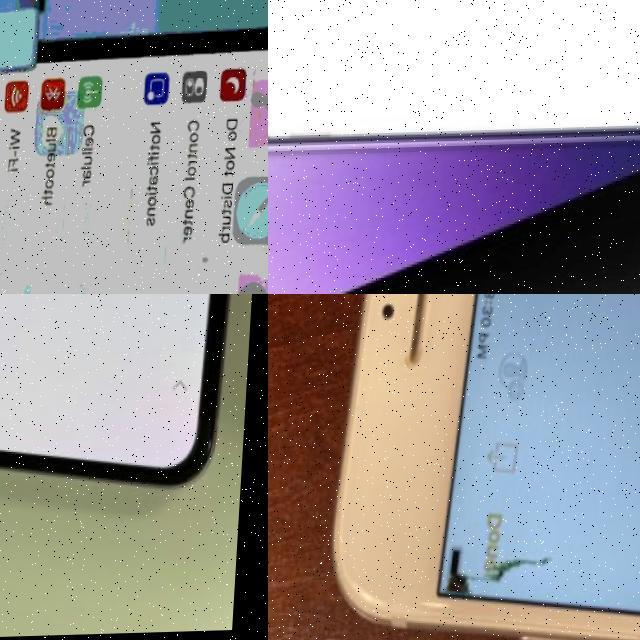dead pixel: (412, 512, 556, 640)
